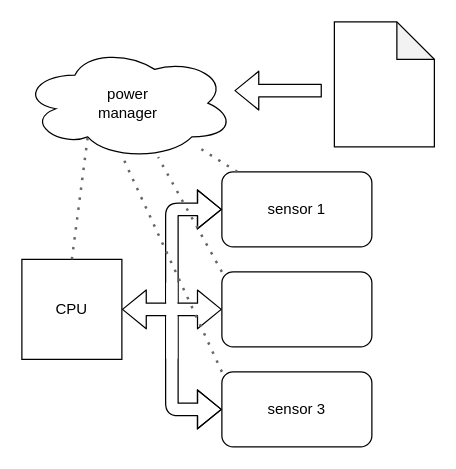
Some shapes in this 456 by 469 pixel diagram are drawn without their labels. Here are the shapes that lost their labels. From the top down, the centre of each, then its label:
the point at 383,84: workload description
the point at 296,309: sensor 2
